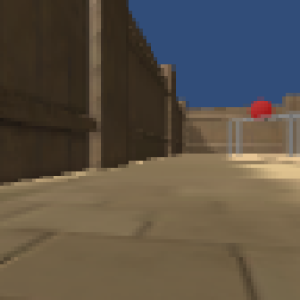badGoal: (251, 100, 273, 120)
wall: (227, 118, 243, 161), (285, 114, 300, 154)
